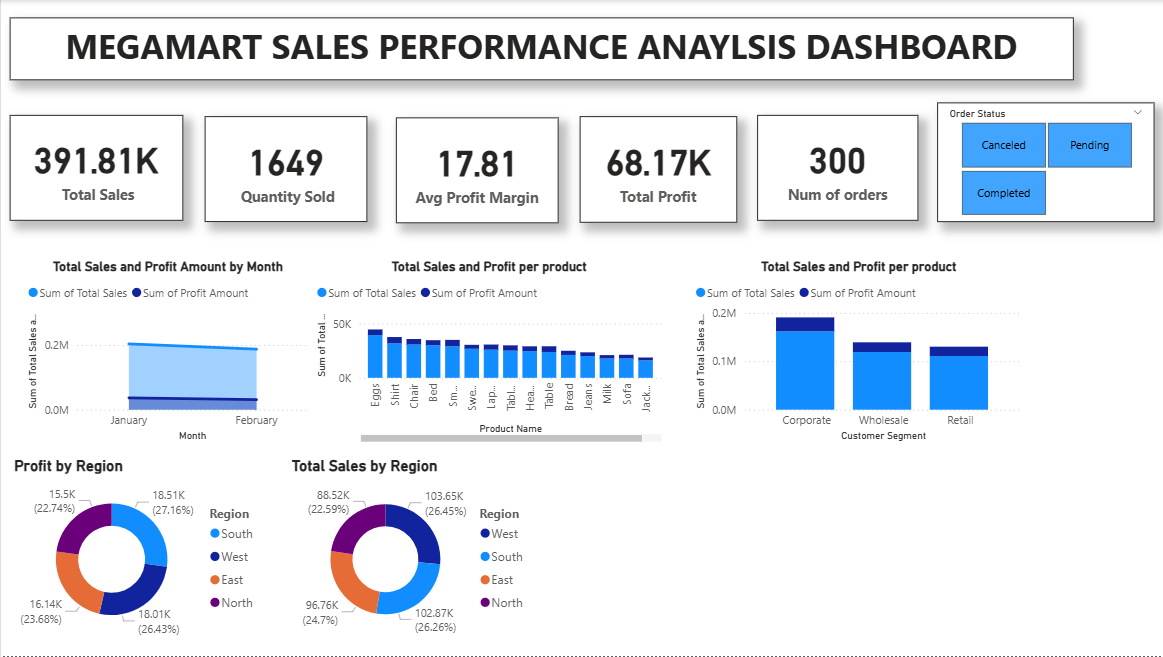

The page's visual inventory and layout, read from the dashboard file:
{"tool":"powerbi","page":{"name":"Page 1","canvas":[1280,720],"ordinal":0},"visuals":[{"type":"textbox","box":[9.6,19.2,1167.8,68.6],"z":0},{"type":"card","fields":{"Values":["Sum(Sales.Total Sales)"]},"box":[10,125.7,190,115.7],"z":1000},{"type":"card","fields":{"Values":["Sum(Sales.Profit Amount)"]},"box":[635.7,127.1,172.9,117.1],"z":2000},{"type":"card","fields":{"Values":["Avg(Sales.Profit Margin (%))"]},"box":[434.3,128.6,178.6,115.7],"z":3000},{"type":"card","fields":{"Values":["Sum(Sales.Quantity Sold)"]},"box":[224.3,127.1,178.6,115.7],"z":4000},{"type":"card","fields":{"Values":["Sales.Num of orders"]},"box":[830,125.7,177.1,115.7],"z":5000},{"type":"areaChart","title":"Total Sales and Profit Amount by Month","fields":{"Category":["Sales.Order Date.Variation.Date Hierarchy.Quarter","Sales.Order Date.Variation.Date Hierarchy.Month"],"Y":["Sum(Sales.Total Sales)","Sum(Sales.Profit Amount)"]},"box":[24.3,284.3,317.1,205.7],"z":6000},{"type":"columnChart","title":"Total Sales and Profit per product","fields":{"Category":["Sales.Product Name"],"Y":["Sum(Sales.Total Sales)","Sum(Sales.Profit Amount)"]},"box":[341.4,284.3,388.6,205.7],"z":7000},{"type":"donutChart","title":"Profit  by Region","fields":{"Category":["Sales.Region"],"Y":["Sum(Sales.Profit Amount)"]},"box":[9.6,500.9,288.2,205.8],"z":8000},{"type":"donutChart","title":"Total Sales by Region","fields":{"Category":["Sales.Region"],"Y":["Sum(Sales.Total Sales)"]},"box":[314.2,500.9,279.9,205.8],"z":9000},{"type":"columnChart","title":"Total Sales and Profit per product","fields":{"Y":["Sum(Sales.Total Sales)","Sum(Sales.Profit Amount)"],"Category":["Sales.Customer Segment"]},"box":[757.1,284.3,368.6,205.7],"z":10000},{"type":"slicer","fields":{"Values":["Sales.Order Status"]},"box":[1027.1,112.9,238.6,131.4],"z":10001}]}

Visuals, with their boxes in screenshot pixels (x1, y1, x2, y2), scaled from the page's 1280x720 canvas onto the 1163x657 screenshot:
textbox: x1=9, y1=18, x2=1070, y2=80
card - Sum(Sales.Total Sales): x1=9, y1=115, x2=182, y2=220
card - Sum(Sales.Profit Amount): x1=578, y1=116, x2=735, y2=223
card - Avg(Sales.Profit Margin (%)): x1=395, y1=117, x2=557, y2=223
card - Sum(Sales.Quantity Sold): x1=204, y1=116, x2=366, y2=222
card - Sales.Num of orders: x1=754, y1=115, x2=915, y2=220
"Total Sales and Profit Amount by Month" areaChart: x1=22, y1=259, x2=310, y2=447
"Total Sales and Profit per product" columnChart: x1=310, y1=259, x2=663, y2=447
"Profit  by Region" donutChart: x1=9, y1=457, x2=271, y2=645
"Total Sales by Region" donutChart: x1=285, y1=457, x2=540, y2=645
"Total Sales and Profit per product" columnChart: x1=688, y1=259, x2=1023, y2=447
slicer - Sales.Order Status: x1=933, y1=103, x2=1150, y2=223
